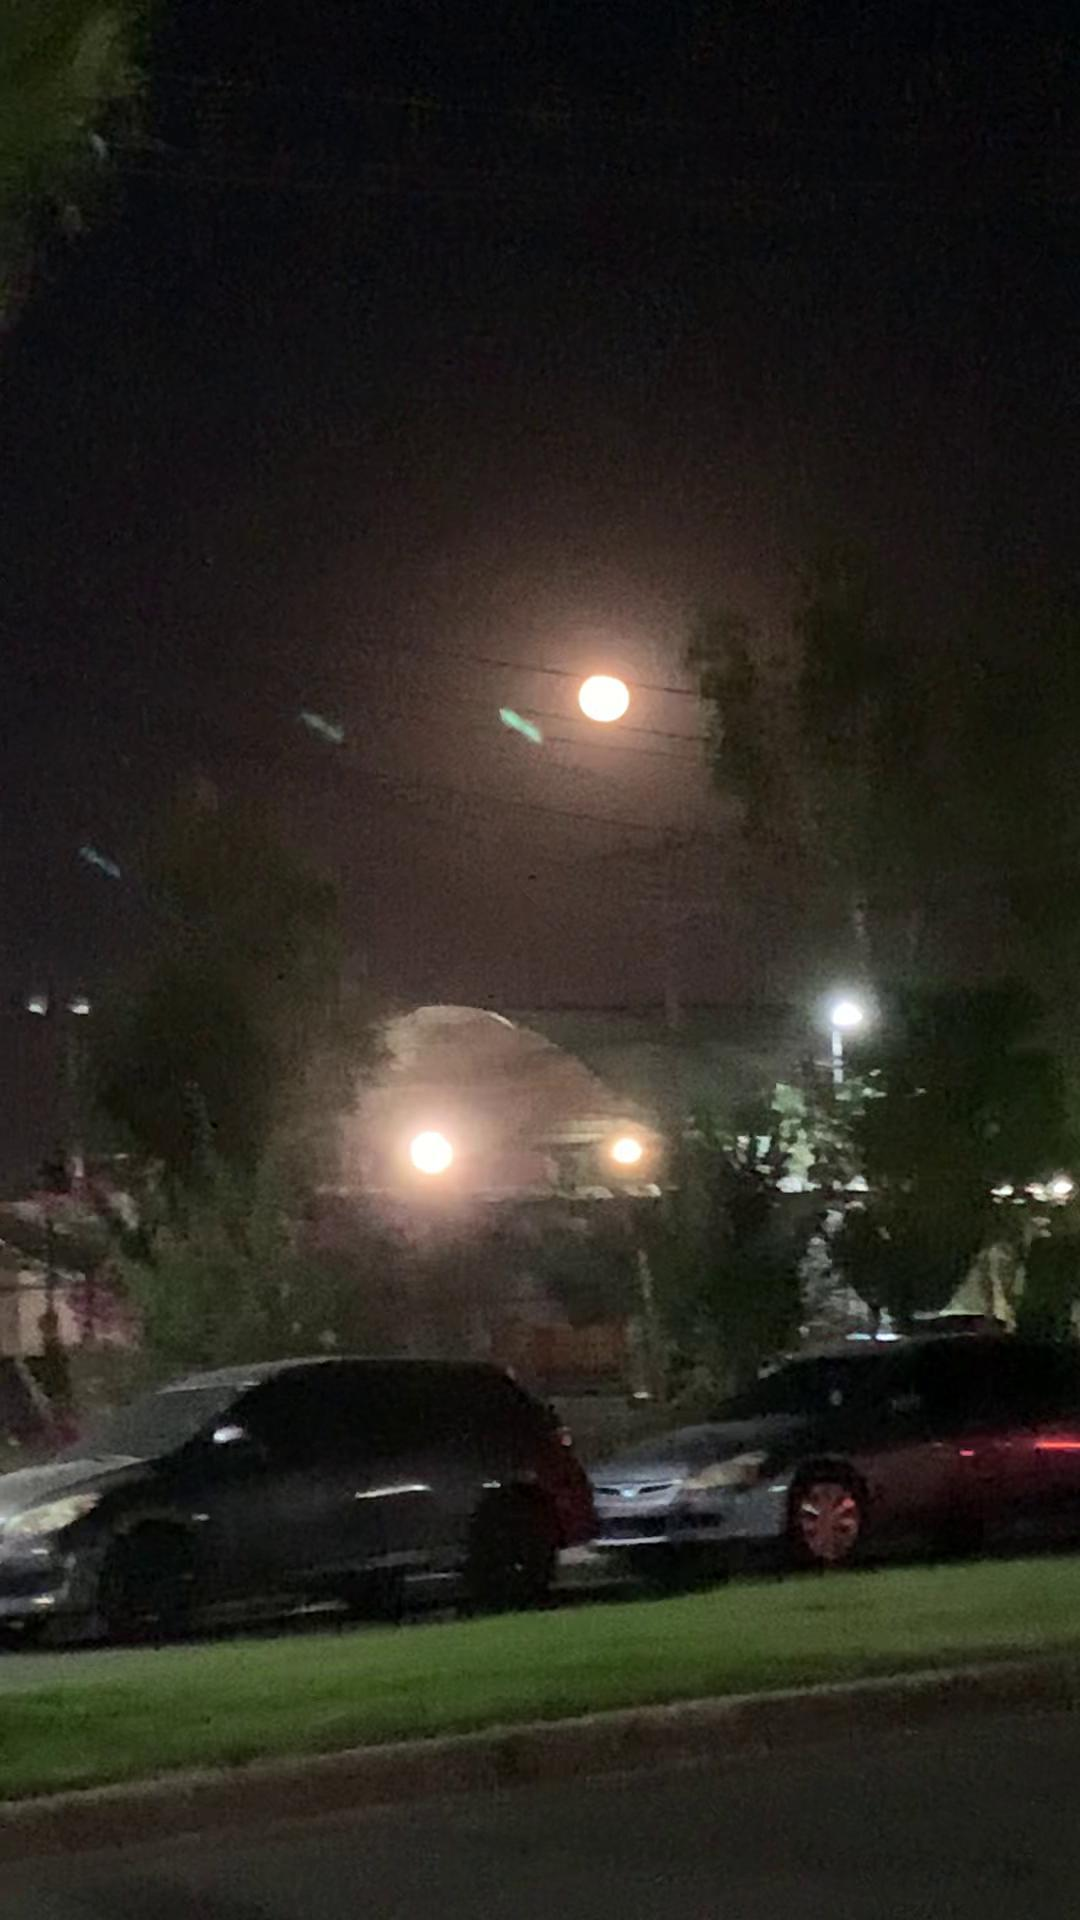moon: (570, 669, 659, 745)
